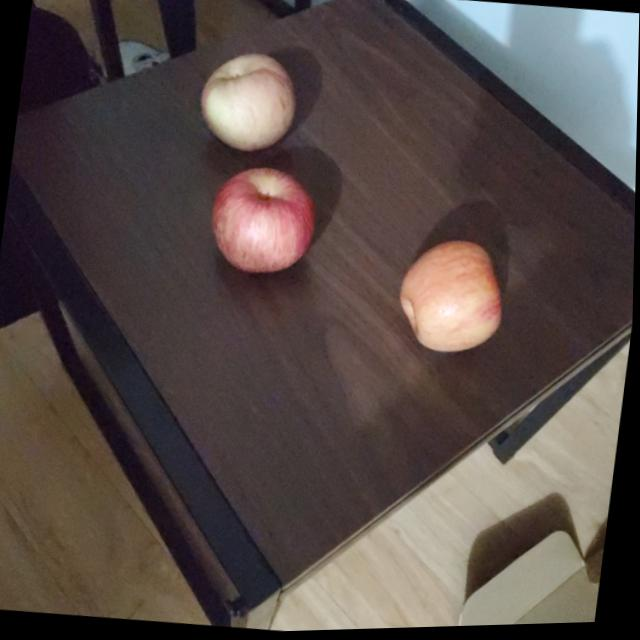apple: (392, 234, 512, 363), (209, 164, 323, 280), (196, 53, 300, 159)
